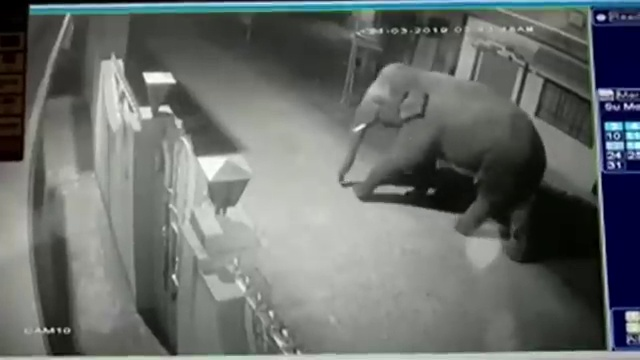Elephant: (337, 64, 547, 264)
